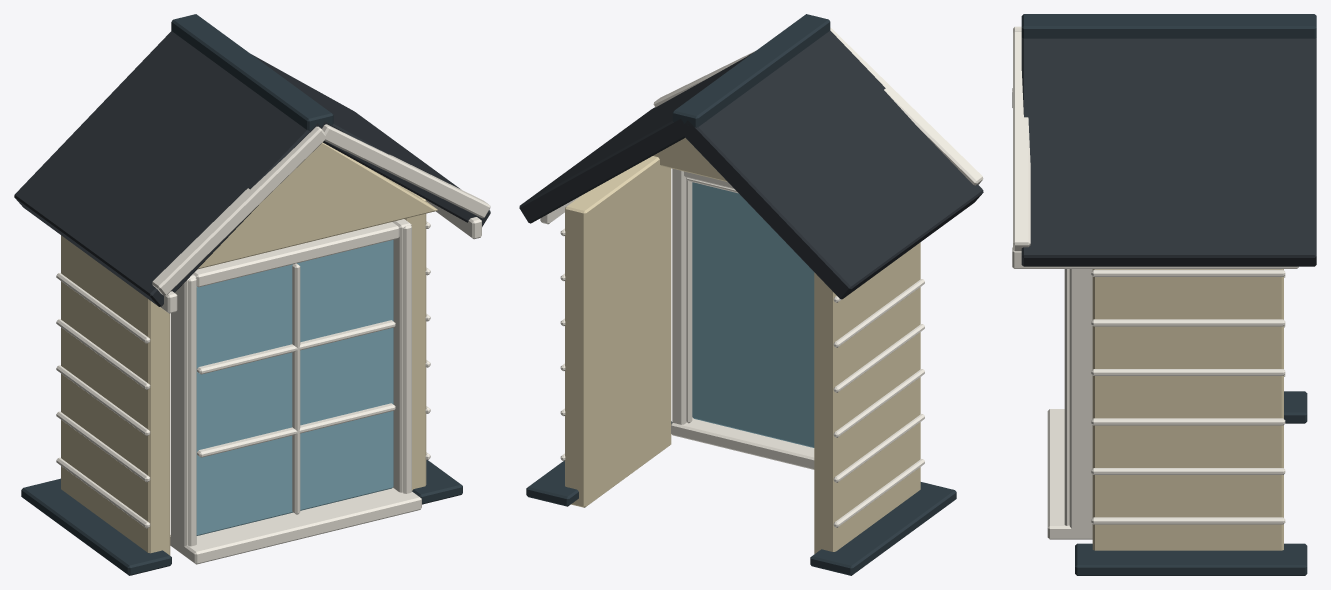
The model's file is b12_gable_dormer_window.glb.
3 renders of one model, left to right at view 1: azimuth 30°, elevation 25°; view 2: azimuth 150°, elevation 25°; view 3: azimuth 270°, elevation 25°, orthographic. The views are drawn at different scales.
Parts seen in each view (by area): view 1: b12_gable_dormer_window; view 2: b12_gable_dormer_window; view 3: b12_gable_dormer_window.
Part boxes in pixels (left/top/right/bottom): b12_gable_dormer_window: left=14, top=14, right=490, bottom=575; b12_gable_dormer_window: left=519, top=14, right=983, bottom=575; b12_gable_dormer_window: left=1012, top=14, right=1316, bottom=575.
Size of the model in its own units: 1.54 by 1.93 by 1.12.
